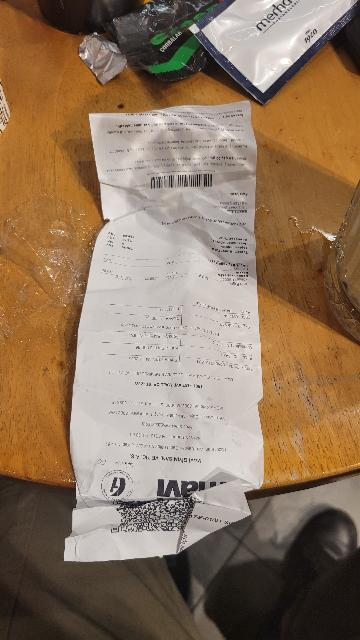Kagit: (75, 99, 266, 567), (75, 33, 133, 90)
Plastik: (119, 0, 360, 102)
